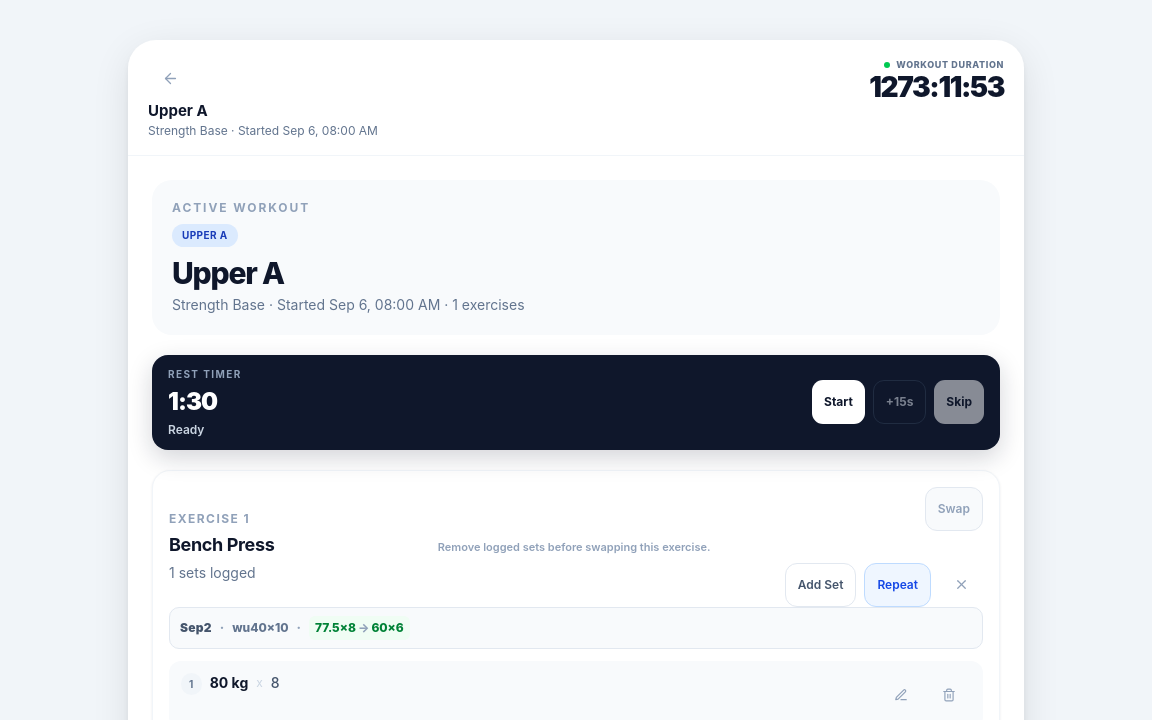
Scenario: WorkoutPage regression coverage › dismisses set deletion with Escape, then sends its payload and reports failure
Click the button named "Delete set" at (949, 694), box [927,672,971,716]
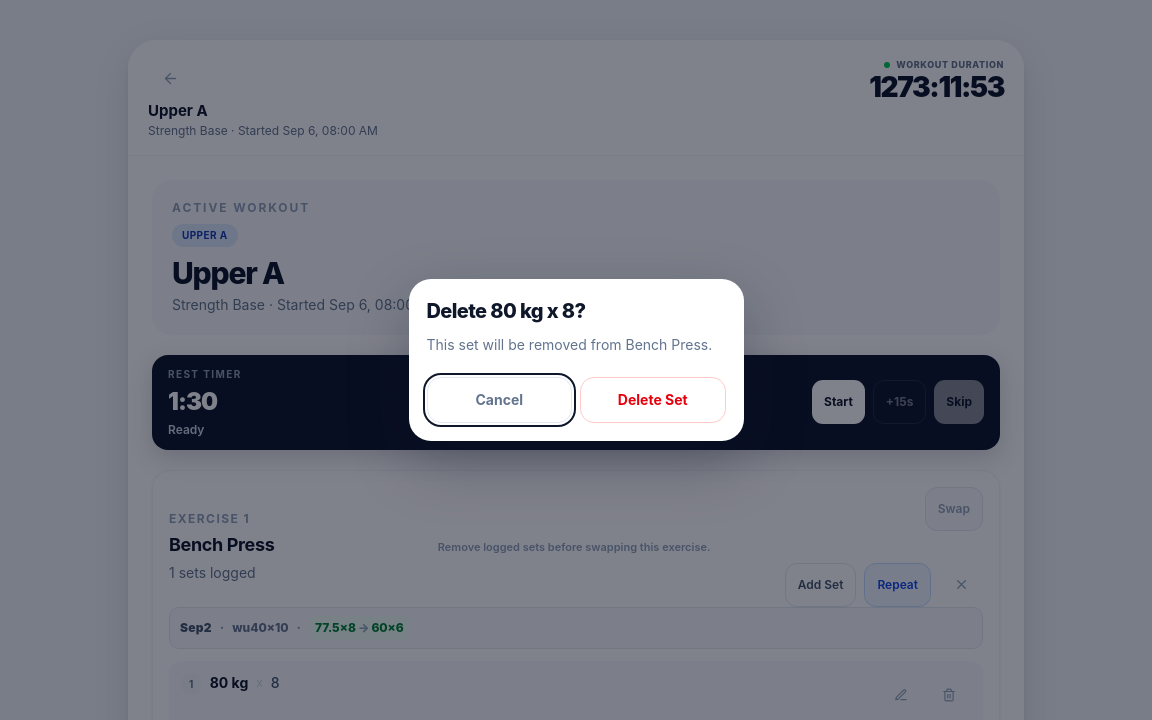
Press Escape in the dialog "Delete 80 kg x 8?", box [408,279,744,441]
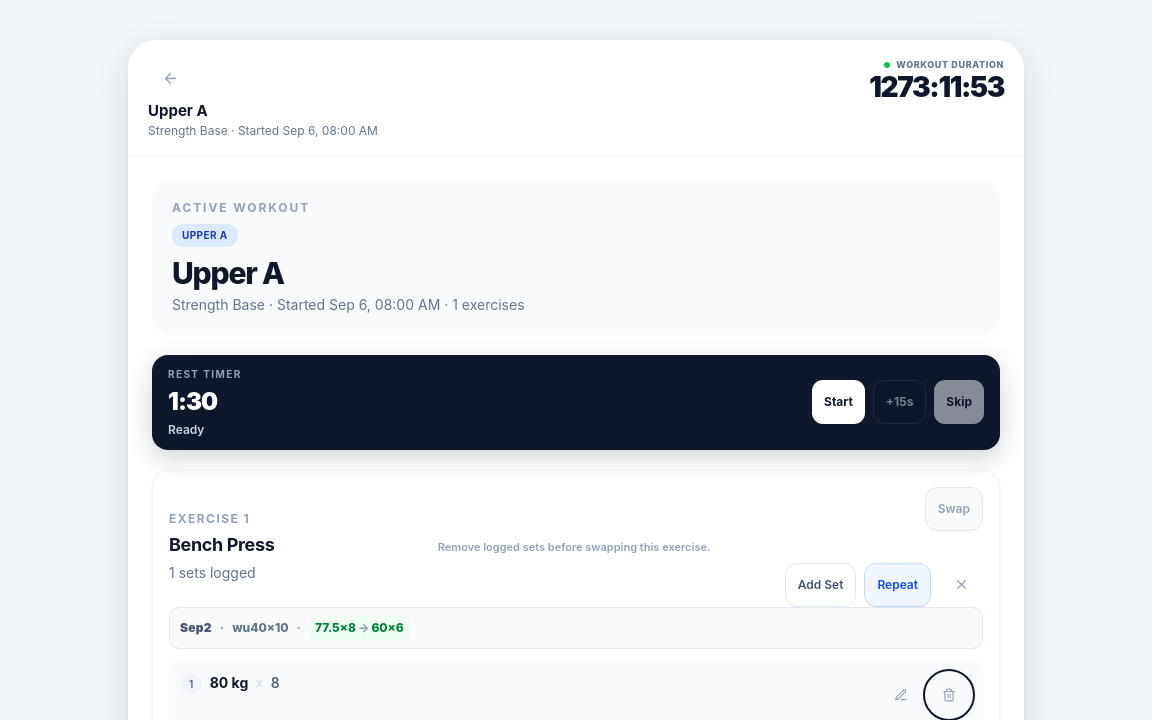
Now the heading "Delete 80 kg x 8?" is gone
Click the button named "Delete set" at (949, 694), box [927,672,971,716]
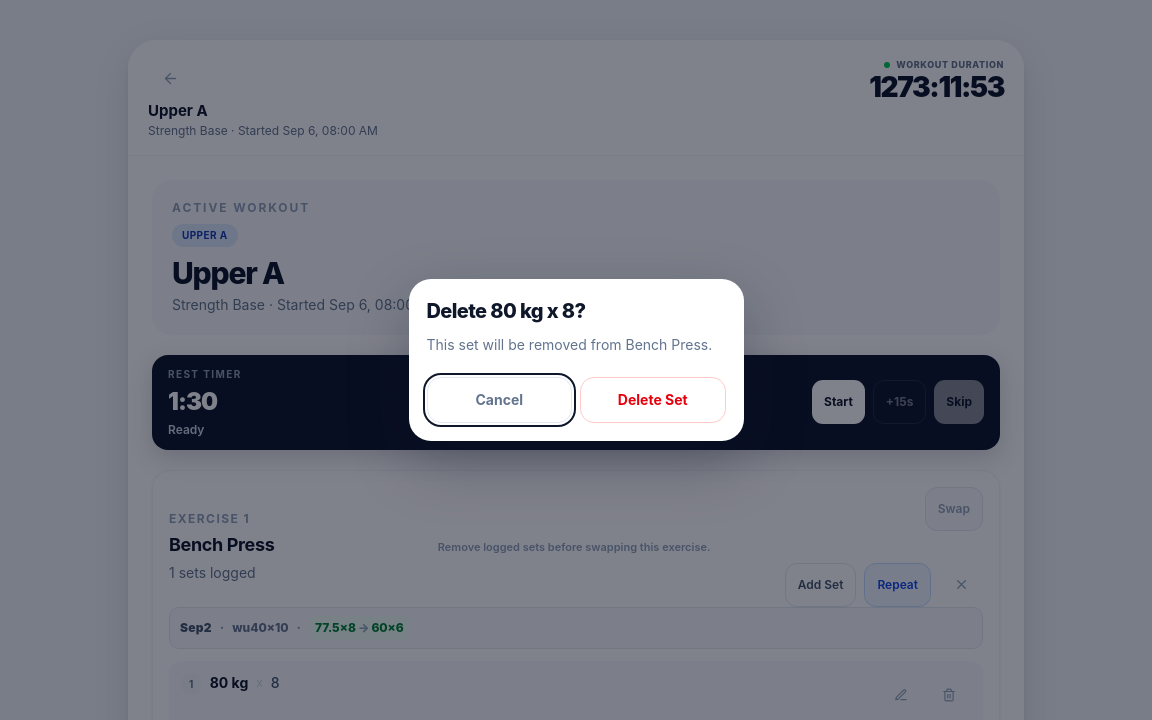
Click the button "Delete Set" at (653, 400), box [580,377,726,423]
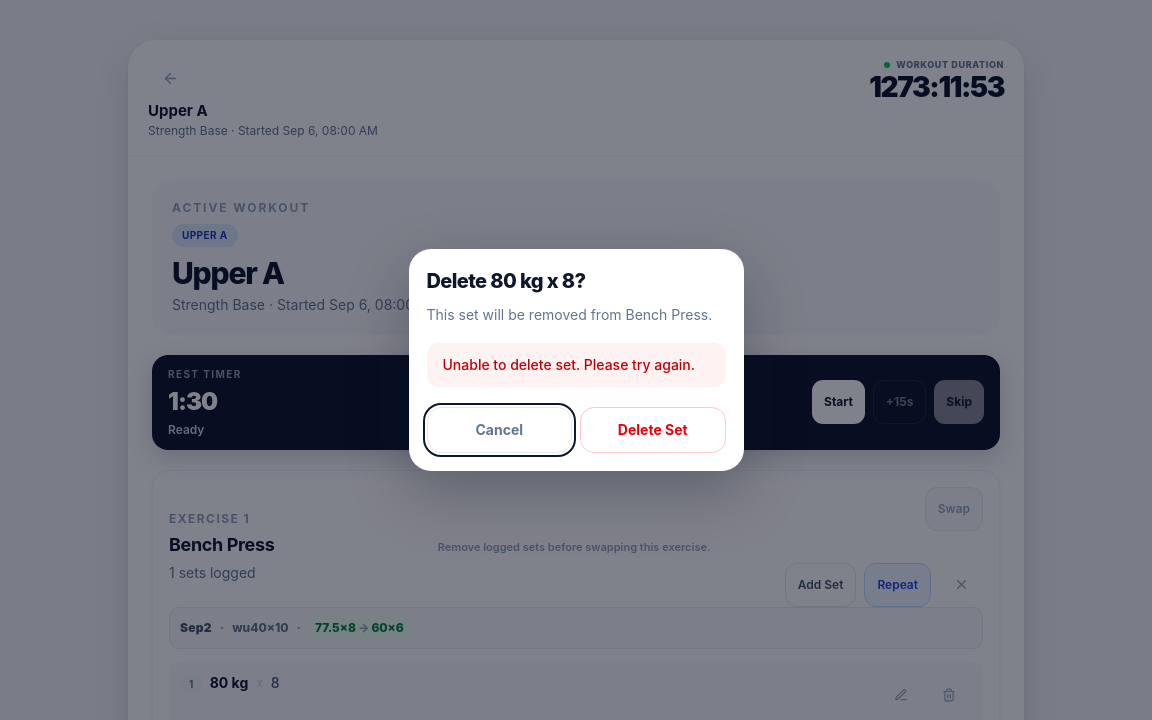
Now the message reads "Unable to delete set. Please try again.", box [442,356,695,373]
